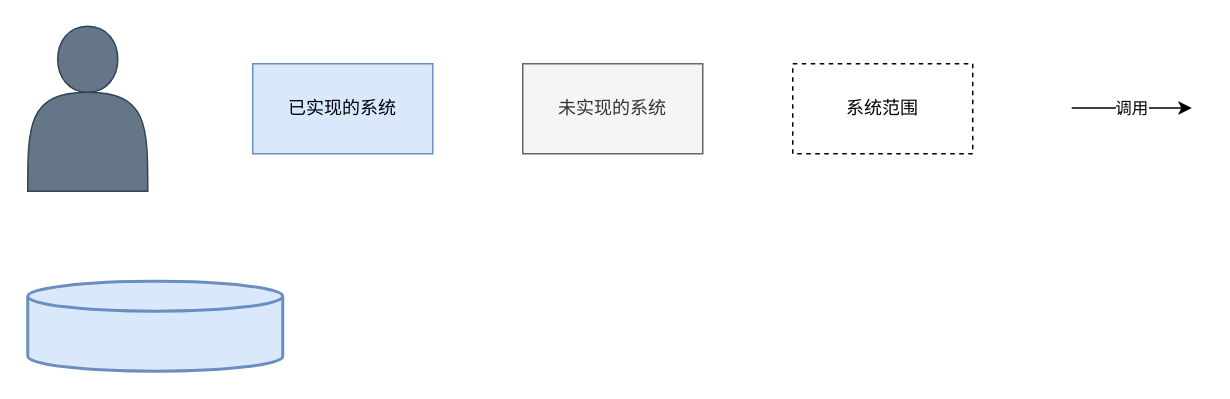
The diagram is 1230 pixels wide and 399 high, and some of its shapes have lost their labels. Each missing label, with the centre of its shape:
数据库: point 155,325
用户: point 87,108
